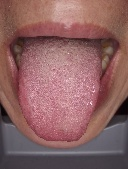tongue: (16, 48, 101, 143)
